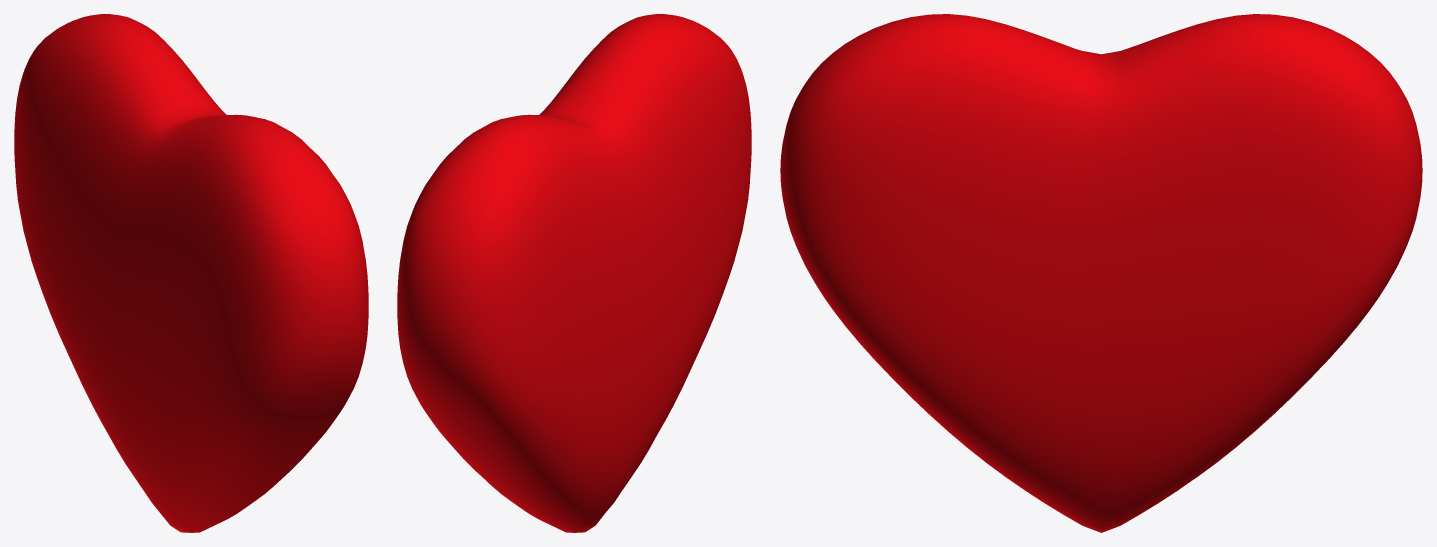
Rendered from heart.glb.
The picture shows the model from 3 angles, left to right: view 1: azimuth 30°, elevation 25°; view 2: azimuth 150°, elevation 25°; view 3: azimuth 270°, elevation 25°; orthographic projection. The views are drawn at different scales.
Parts seen in each view (by area): view 1: Cube; view 2: Cube; view 3: Cube.
Part boxes in pixels (<box>): Cube: <box>14,14,368,532</box>; Cube: <box>397,14,751,532</box>; Cube: <box>780,14,1422,532</box>.
Size of the model in its own units: 0.5713 by 1.85 by 2.1.
